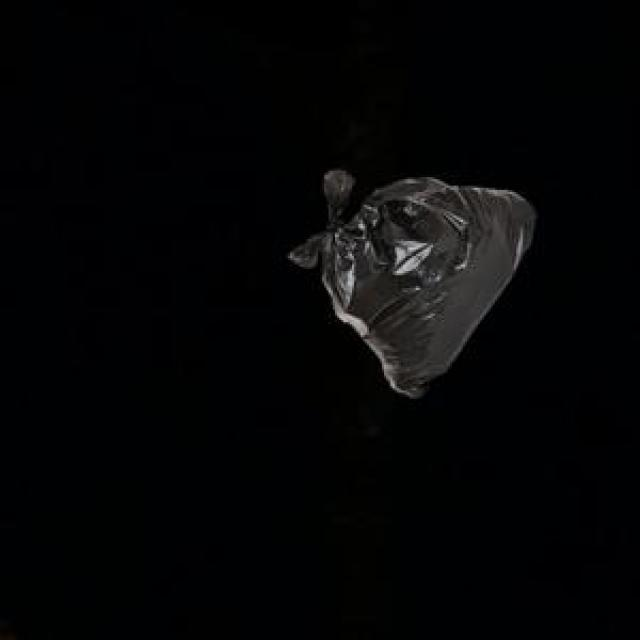miscellaneous trash: (286, 166, 531, 393)
